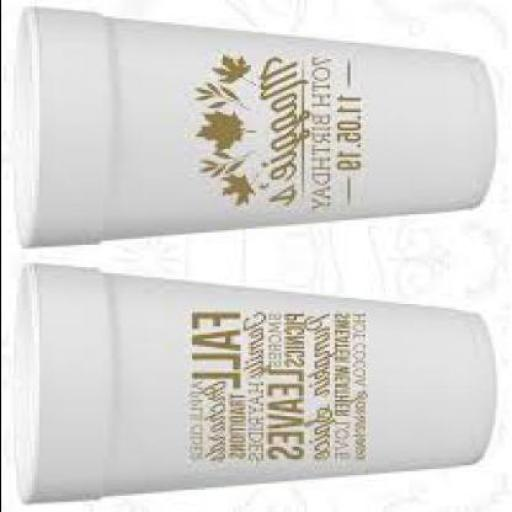paper: (10, 261, 492, 502), (13, 4, 494, 245)
